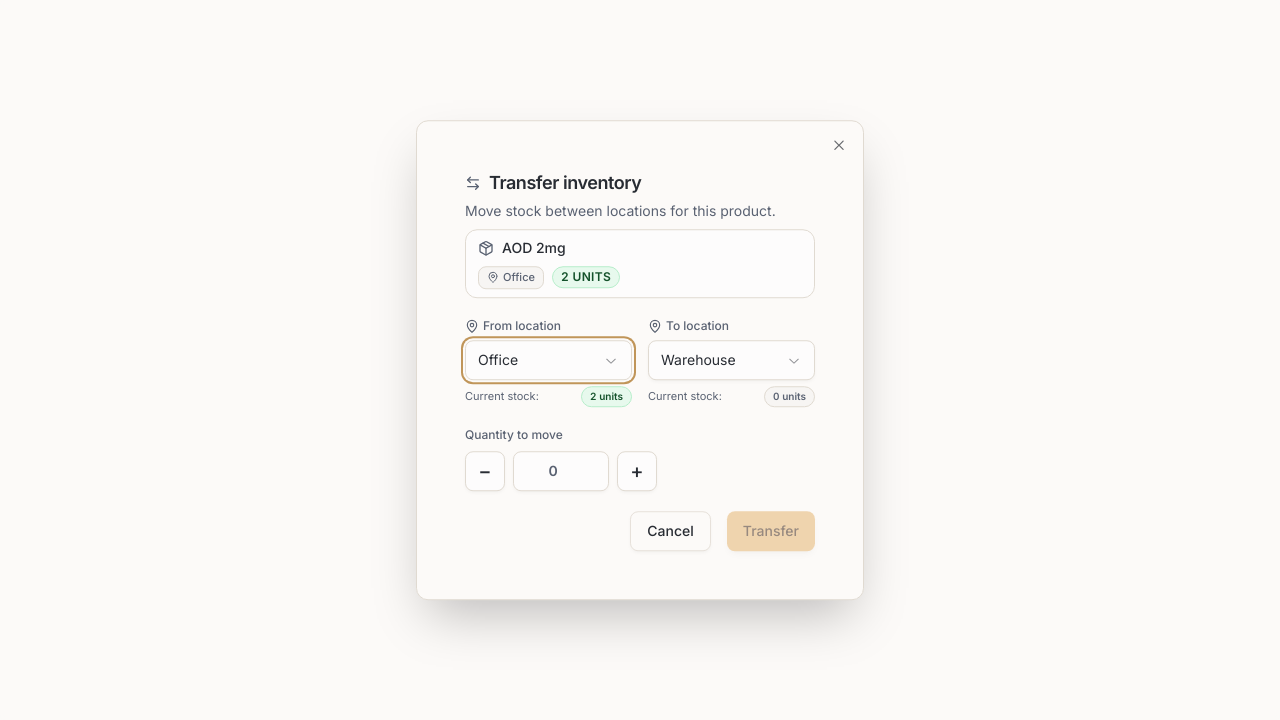
Scenario: flat insufficient-stock 400 body drives the auto-add AlertDialog with shortfall numbers
The image size is (1280, 720).
Type "5" into the number field with placeholder "0" at {"x": 561, "y": 471}, box [513,451,609,491]
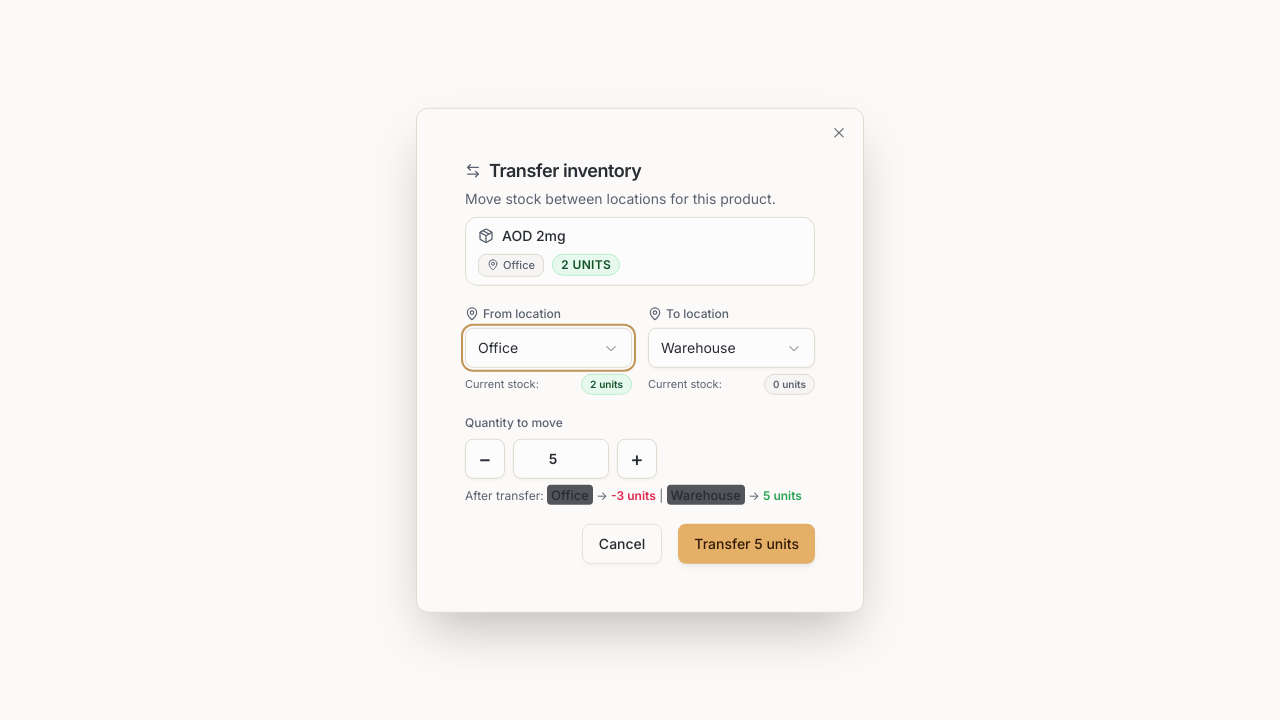
Click the button "Transfer 5 units" at {"x": 747, "y": 543}, box [678,523,815,563]
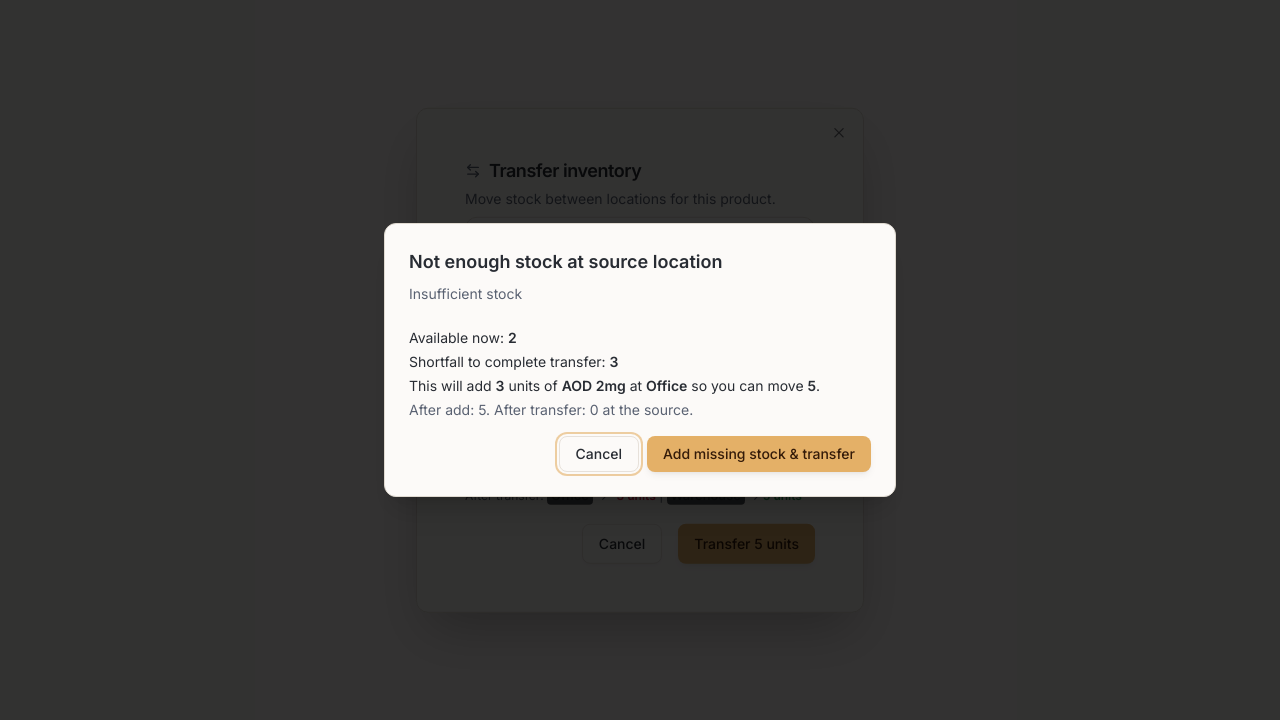
Expected: the dialog that starts with "Not enough stock at source location" is shown, [409,251,722,272]
Expected: the dialog that starts with "Not enough stock at source location" shows "Available now: 2", [384,223,896,497]
Expected: the dialog that starts with "Not enough stock at source location" shows "Shortfall to complete transfer: 3", [384,223,896,497]
